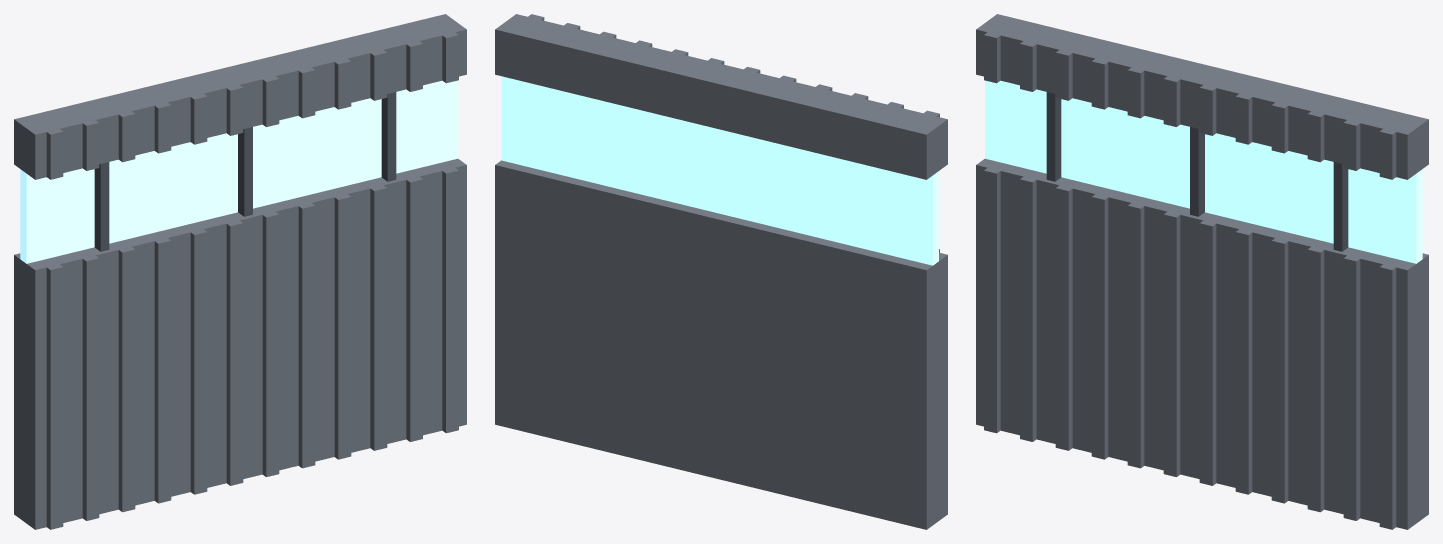
Rendered from cw_win.glb.
3 renders of one model, left to right at view 1: azimuth 30°, elevation 25°; view 2: azimuth 150°, elevation 25°; view 3: azimuth 330°, elevation 25°, orthographic.
Parts seen in each view (by area): view 1: city_cw_win; view 2: city_cw_win; view 3: city_cw_win.
Part boxes in pixels (box(x1,y1,x2,y2)): city_cw_win: box(14, 14, 466, 529); city_cw_win: box(495, 14, 947, 529); city_cw_win: box(976, 14, 1428, 529).
Size of the model in its own units: 4 by 3.5 by 0.4.
1 material, 1 textured.
